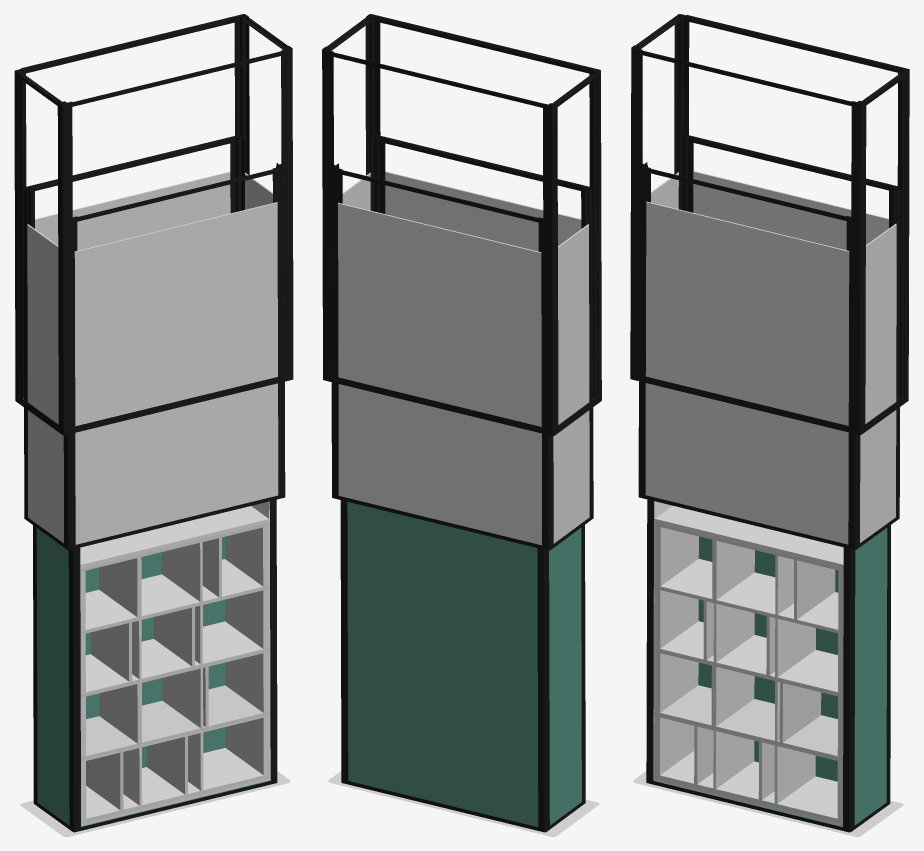
3 renders of one model, left to right at view 1: azimuth 30°, elevation 25°; view 2: azimuth 150°, elevation 25°; view 3: azimuth 330°, elevation 25°, orthographic.
Parts seen in each view (by area): view 1: midfront, kallax_unit, loft_frame, shelf2, mid_frame, mid_left, ext_left, main_frame, midback, mainBack, hatch_panel, mid_right (+1 smaller); view 2: midback, mainBack, loft_frame, mid_frame, mid_left, ext_left, main_frame, midfront, hatch_panel, mid_right; view 3: midfront, kallax_unit, loft_frame, shelf2, mid_frame, mid_right, ext_right, main_frame, midback, mainBack, hatch_panel, mid_left (+1 smaller).
Part boxes in pixels (box(x1,y1,x2,y2)): midfront: box(74, 202, 278, 544); kallax_unit: box(80, 506, 269, 826); loft_frame: box(14, 14, 293, 435); shelf2: box(80, 522, 269, 823); mid_frame: box(23, 135, 285, 550); mid_left: box(27, 224, 63, 542); ext_left: box(36, 528, 69, 825); main_frame: box(33, 499, 277, 832); midback: box(35, 171, 230, 250); mainBack: box(85, 536, 225, 767); hatch_panel: box(20, 771, 290, 836); mid_right: box(245, 172, 272, 209); midback: box(338, 203, 541, 545); mainBack: box(347, 501, 538, 826); loft_frame: box(322, 14, 601, 435); mid_frame: box(331, 134, 593, 550); mid_left: box(553, 224, 589, 543); ext_left: box(549, 528, 581, 825); main_frame: box(340, 500, 585, 832); midfront: box(385, 171, 581, 251); hatch_panel: box(328, 771, 599, 836); mid_right: box(342, 172, 370, 210); midfront: box(645, 201, 849, 544); kallax_unit: box(654, 506, 843, 826); loft_frame: box(630, 14, 909, 434); shelf2: box(654, 522, 843, 823); mid_frame: box(638, 134, 900, 549); mid_right: box(860, 223, 896, 542); ext_right: box(854, 528, 887, 825); main_frame: box(646, 499, 890, 832); midback: box(693, 171, 888, 250); mainBack: box(698, 536, 838, 781); hatch_panel: box(633, 771, 903, 836); mid_left: box(651, 172, 678, 209).
Bounding box in the file's own units: 1.36 × 4.13 × 0.5046.
